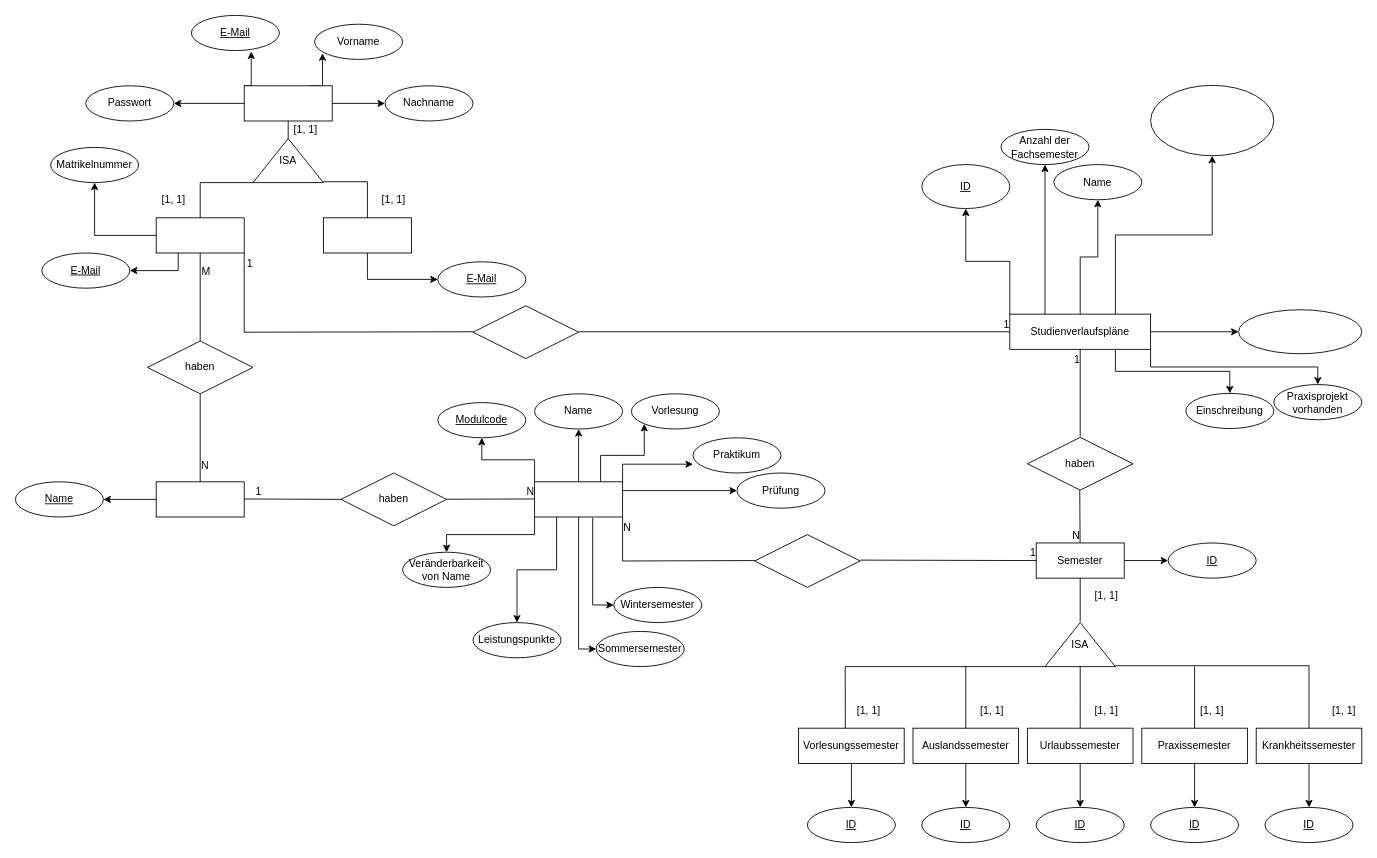
This 1377x858 diagram has some shape labels left out. Here are the shapes that lost their labels. From the top down, the centre of each, then its label:
At pixel 287 103: "Benutzer".
At pixel 1212 120: "Veröffentlichungsjahr der Prüfungsordnung".
At pixel 199 235: "Studenten".
At pixel 367 235: "Verwalter".
At pixel 525 332: "plannen".
At pixel 1300 331: "Gesamtleistungspunkte".
At pixel 199 499: "Studiengänge".
At pixel 578 499: "Module".
At pixel 807 560: "geplant in".
